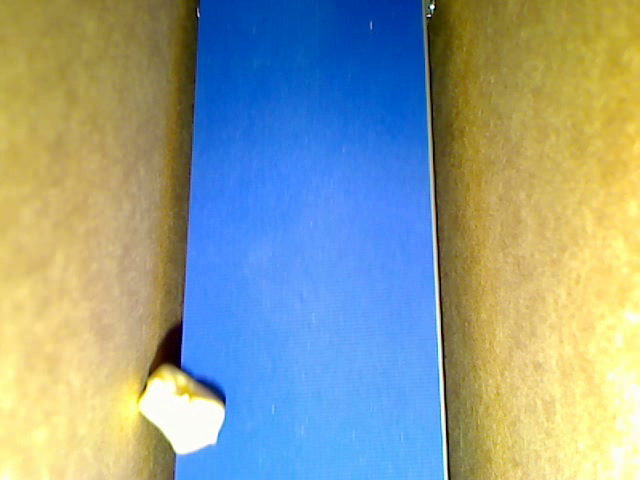tortellini: (138, 363, 224, 453)
